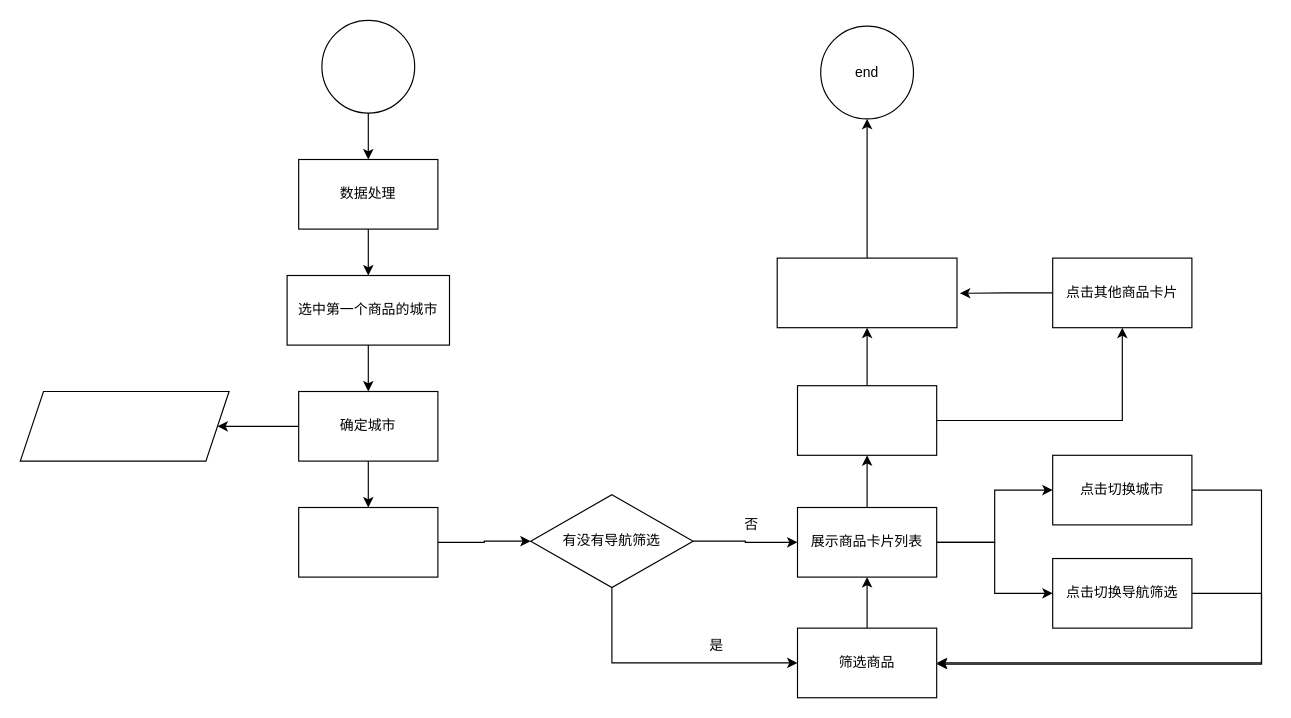
The diagram is 1291 pixels wide and 718 high, and some of its shapes have lost their labels. The shapes that lost their labels are listed below. From the top down, each one's centre as x and y in pixels, then its label:
At pixel 368 66: "start".
At pixel 866 292: "显示商品详情文字描述".
At pixel 124 425: "同步城市到货架（可选）".
At pixel 866 420: "选中第一个商品".
At pixel 368 541: "拿到该城市的商品".
